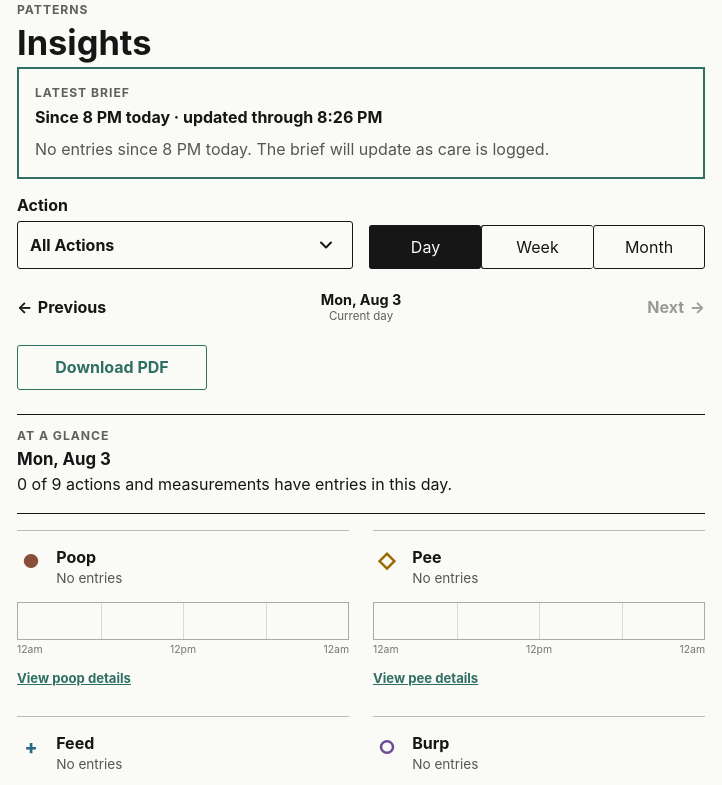
Insights screen › returns from action details without losing the selected range or period
Click the button "Week" at (537, 247), box left=481, top=225, right=593, bottom=269
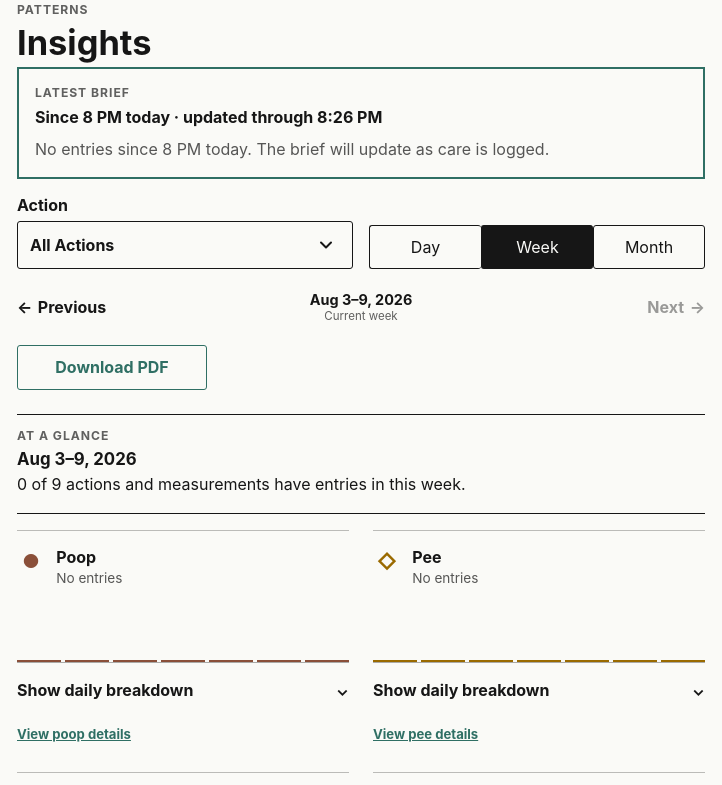
Click the button "← Previous" at (62, 307), box left=17, top=285, right=106, bottom=329
(page scrolled)
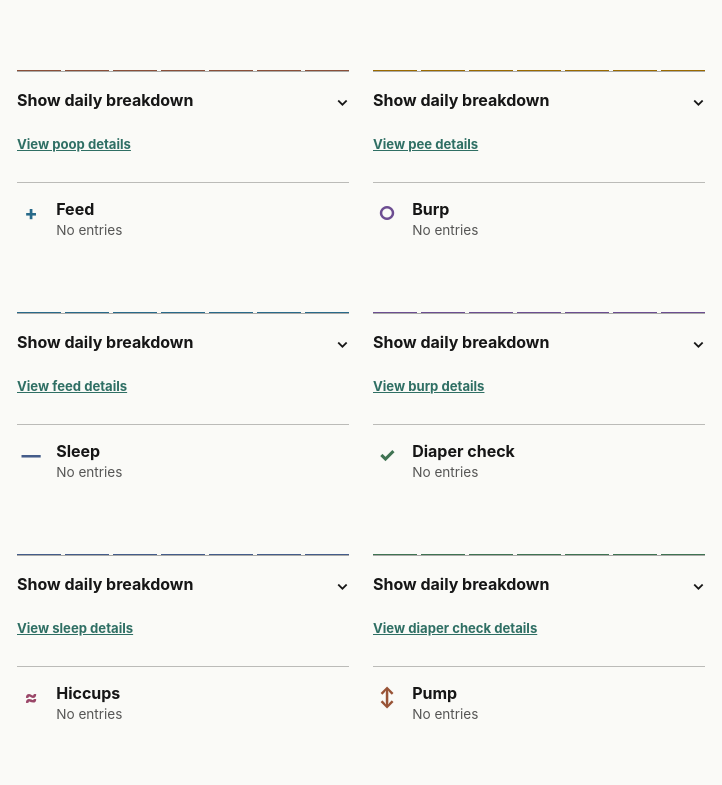
Click the button "View feed details" at (72, 386), box left=17, top=364, right=349, bottom=408
(page scrolled)
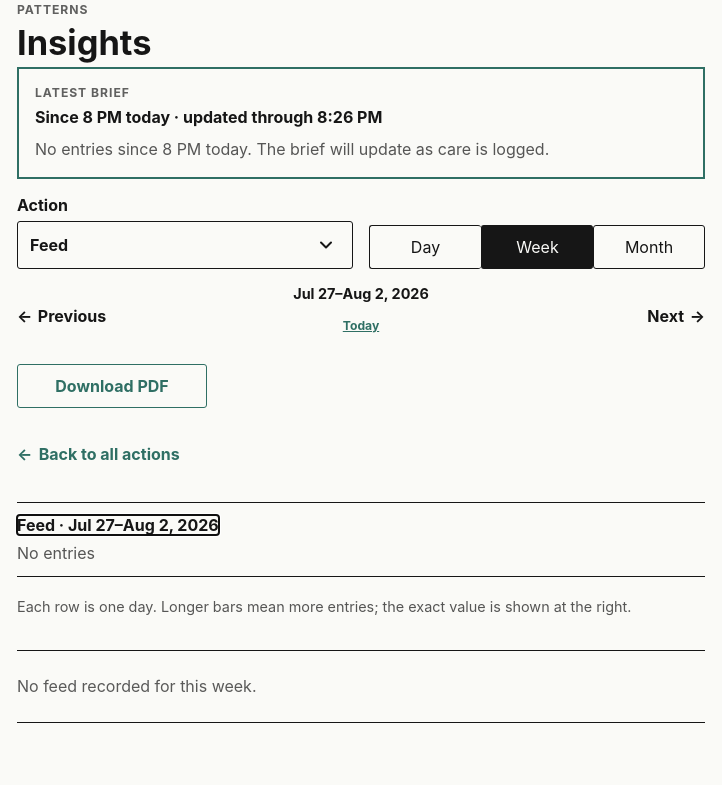
Expected: the dropdown labelled "Action" shows "Feed", left=17, top=221, right=353, bottom=269
Expected: the button with class "back-to-all-actions" shows "Back to all actions"
Click the button with class "back-to-all-actions" at (98, 454), box left=17, top=432, right=180, bottom=476
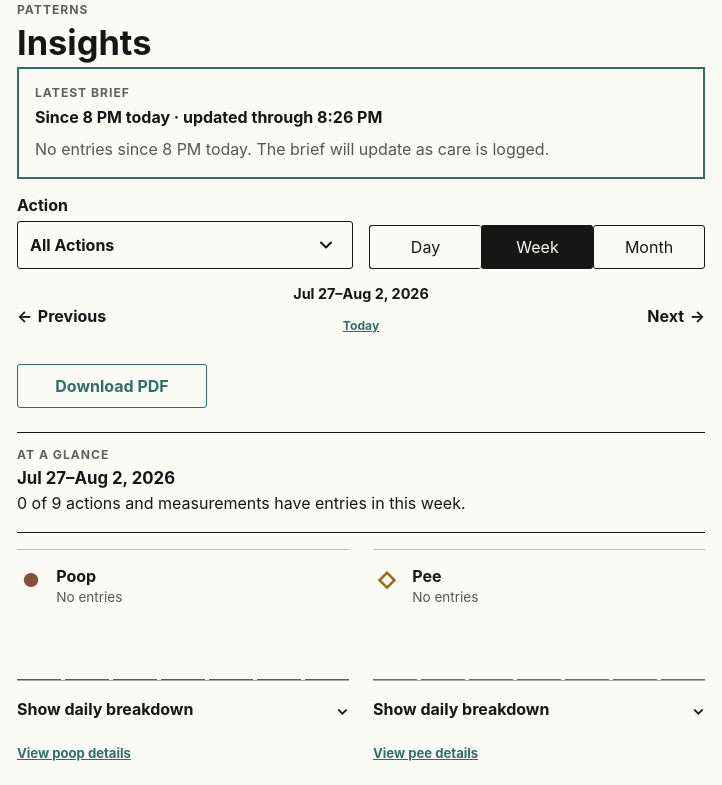
Expected: the dropdown labelled "Action" shows "All Actions", left=17, top=221, right=353, bottom=269
Expected: the number of elements with class "insight-card" is 9
